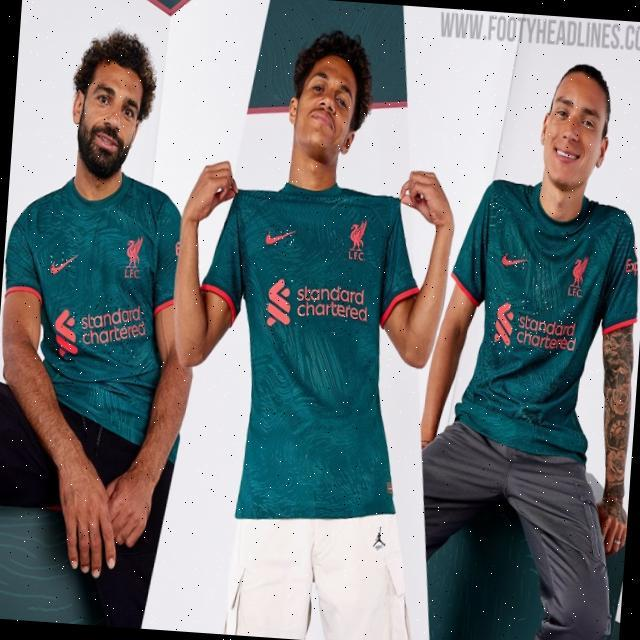Nike: (264, 223, 297, 247), (50, 251, 77, 273), (500, 250, 527, 270)
Standard Chartered: (262, 273, 369, 337), (53, 300, 151, 360), (486, 295, 578, 358)
